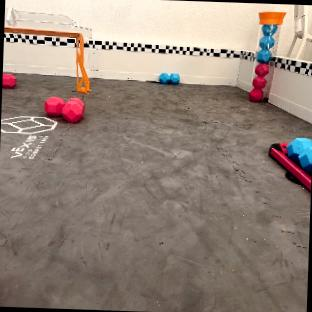Goal: (4, 8, 91, 93)
Loader: (249, 12, 284, 101)
Parking-R: (270, 143, 311, 189)
V5_BLUE: (285, 137, 312, 173), (257, 25, 274, 60), (160, 74, 180, 82)
V5_RED: (44, 97, 84, 123), (249, 63, 268, 101), (2, 73, 15, 88)
